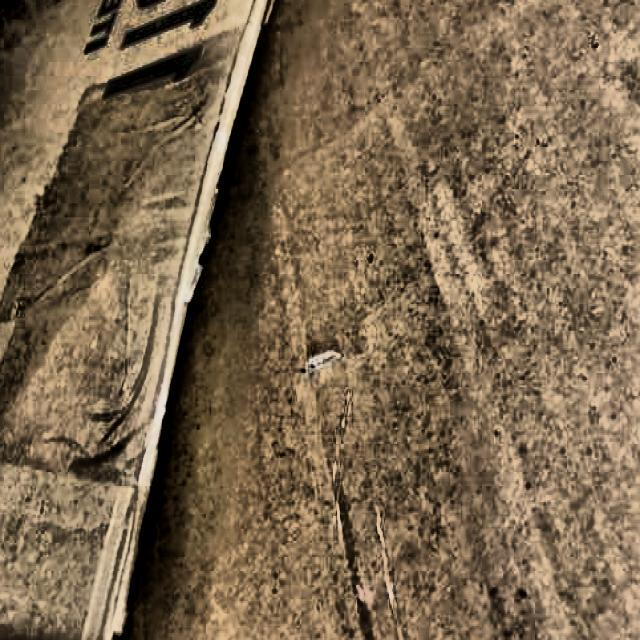cardboard: (0, 0, 295, 640)
